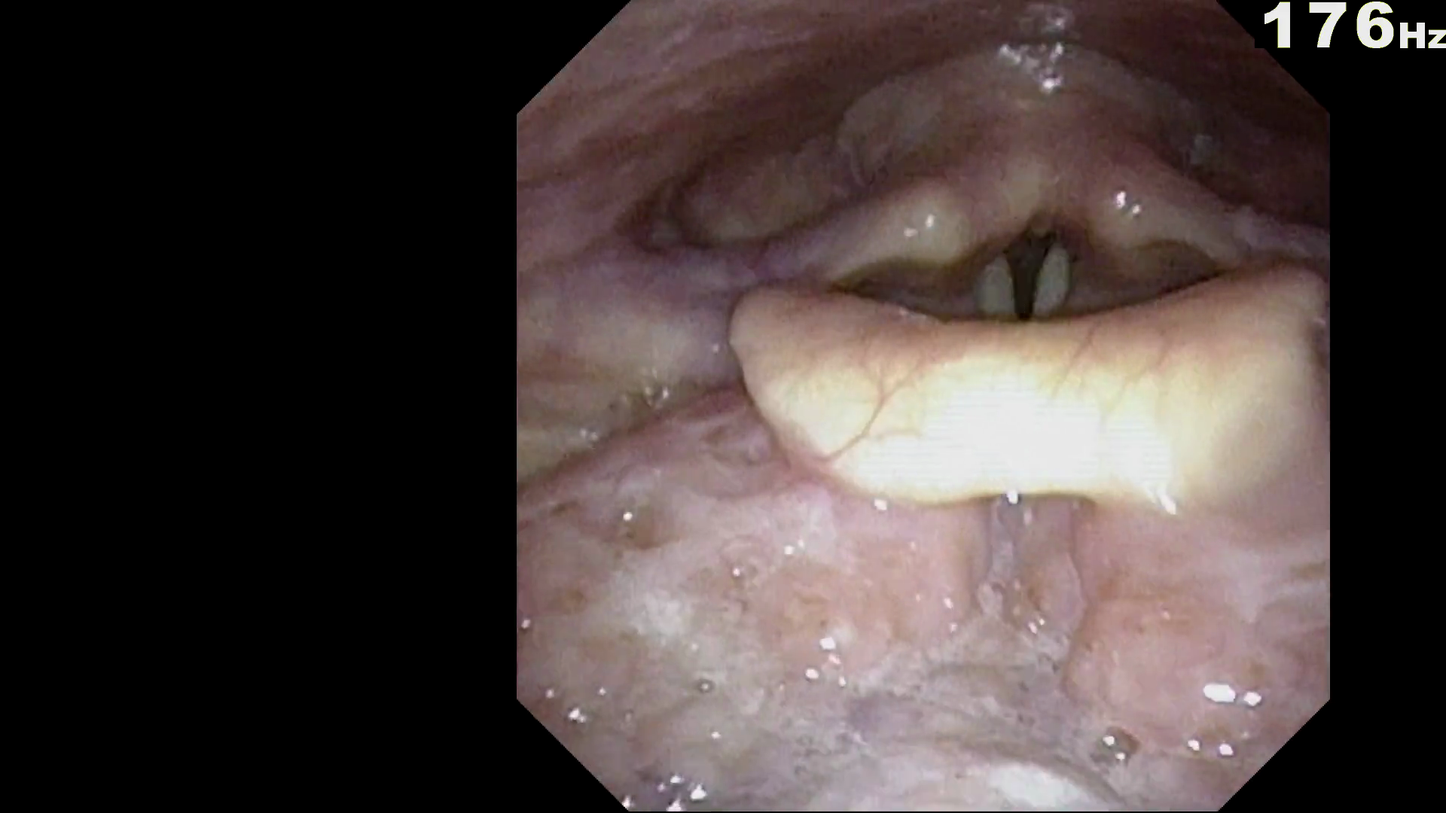epiglottis: (725, 246, 1320, 530)
trachea: (957, 218, 1104, 373)
